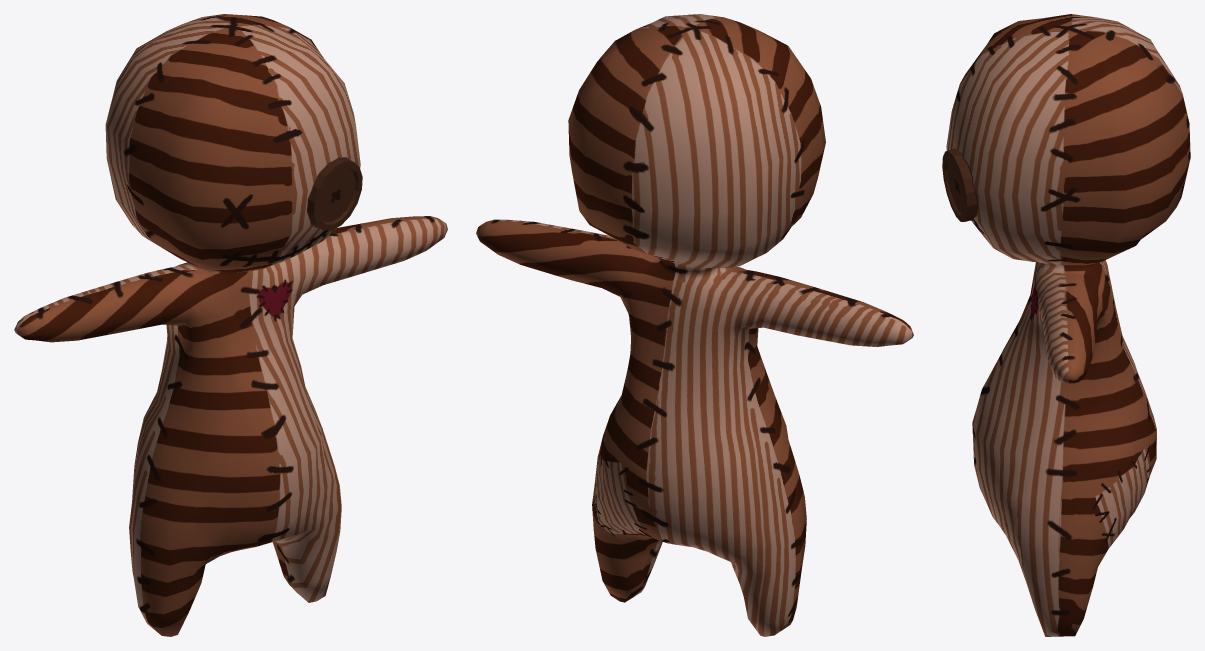
File: Voodoo_Rig.fbx
The picture shows the model from 3 angles, left to right: view 1: azimuth 30°, elevation 25°; view 2: azimuth 150°, elevation 25°; view 3: azimuth 270°, elevation 25°; orthographic projection. The views are drawn at different scales.
Parts seen in each view (by area): view 1: Voodoo14; view 2: Voodoo14; view 3: Voodoo14.
Boxes of the visible parts, x1,y1,x2,y2 form: Voodoo14: [14, 14, 447, 636]; Voodoo14: [476, 14, 913, 636]; Voodoo14: [942, 14, 1190, 636].
Size of the model in its own units: 30.64 by 39.88 by 15.64.
Materials: 1 (1 with a texture image).
